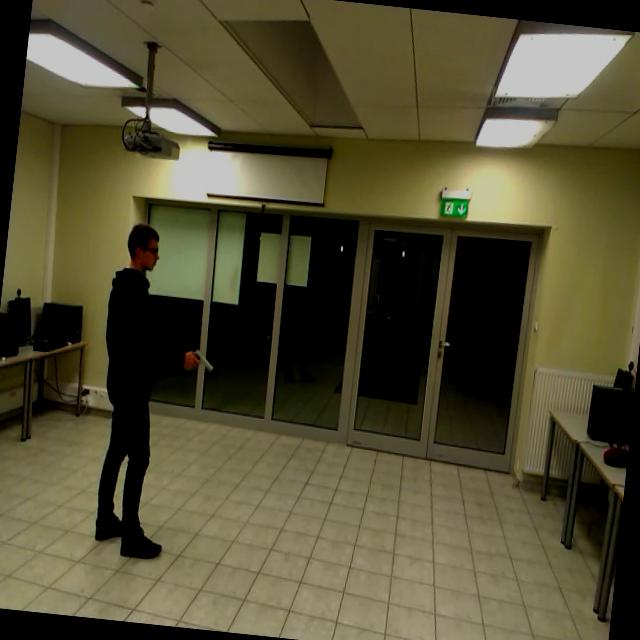handgun: (188, 334, 222, 382)
